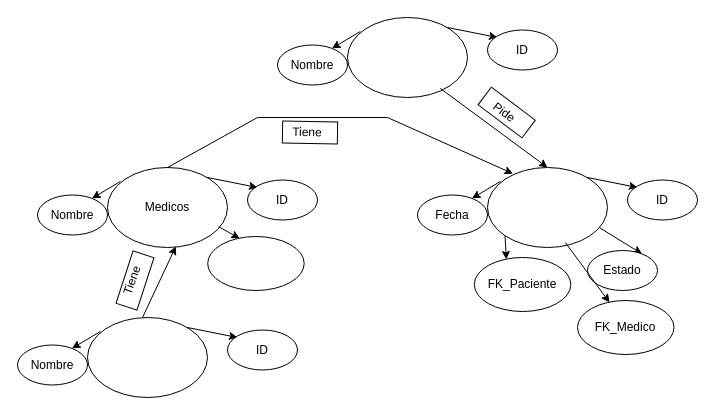
Image size: 715x415. Some labels were removed from this diagram. The box of each missing label's shape, as (x1, y1, x2, y2) in pixels:
Especialidades: (86, 316, 208, 398)
FK_Especialidad: (207, 236, 304, 290)
Pacientes: (346, 16, 468, 98)
Turnos: (486, 166, 608, 248)
